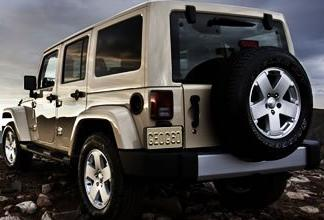back_view: (146, 45, 314, 179)
backlight: (146, 90, 176, 122)
side_glass: (35, 17, 149, 89)
